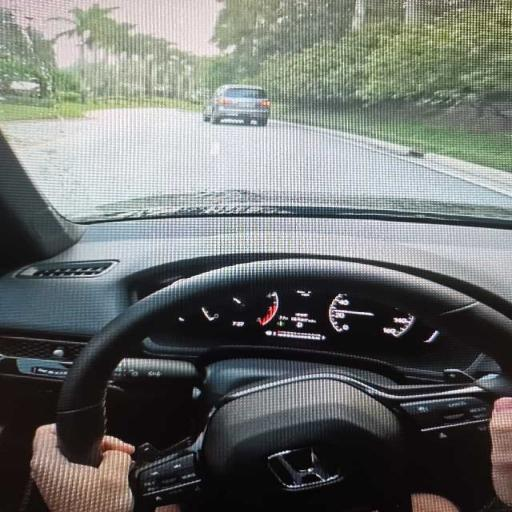car: (204, 85, 270, 126)
lane: (3, 109, 511, 217)
person: (32, 425, 133, 511)
